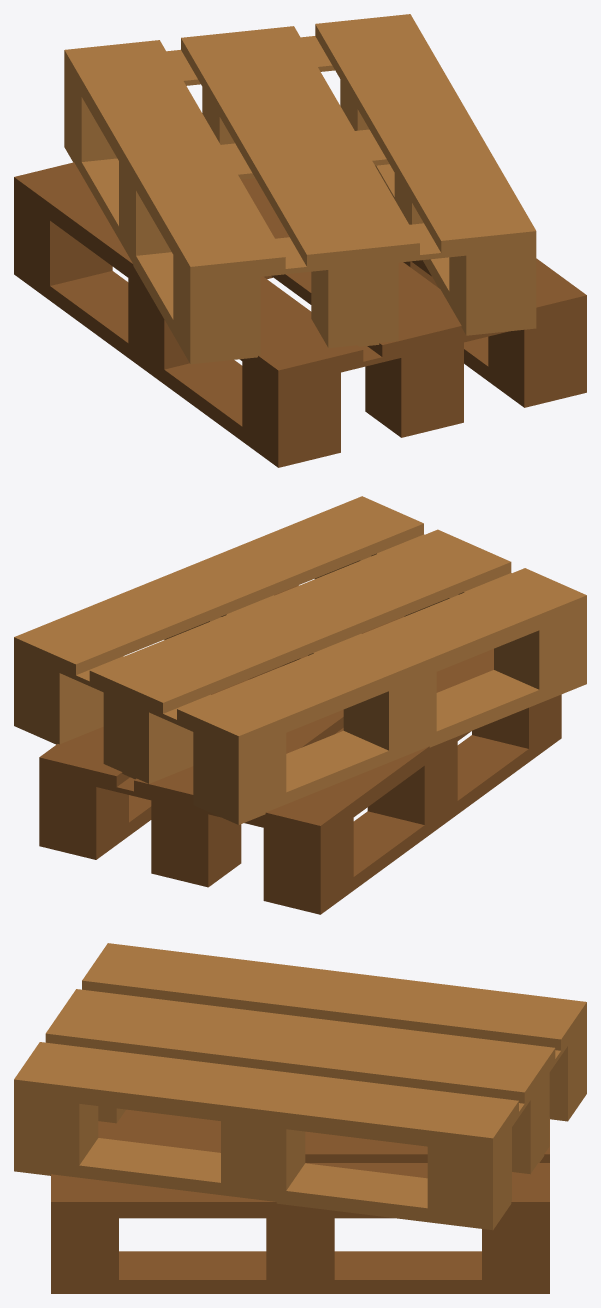
The picture shows the model from 3 angles, top to bottom: view 1: azimuth 30°, elevation 25°; view 2: azimuth 150°, elevation 25°; view 3: azimuth 270°, elevation 25°; orthographic projection. The views are drawn at different scales.
Visible parts, largest first — view 1: A-22; view 2: A-22; view 3: A-22.
Boxes of the visible parts, box(x1,y1,x2,y2) form: A-22: box(14, 14, 586, 467); A-22: box(14, 496, 586, 914); A-22: box(14, 943, 586, 1293).
Size of the model in its own units: 431 by 188 by 535.
